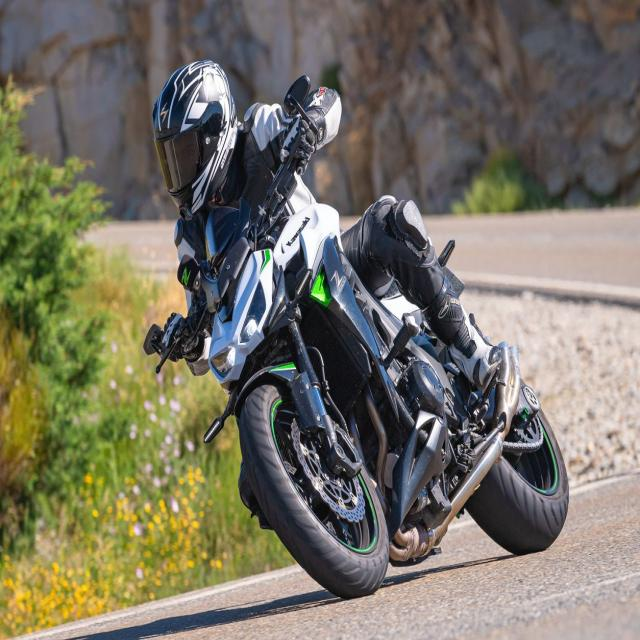MOTORCYCLE: (221, 228, 534, 587)
